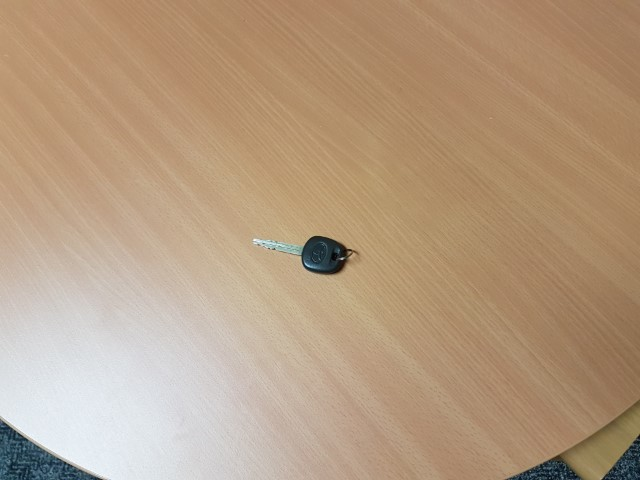key: (253, 234, 349, 274)
